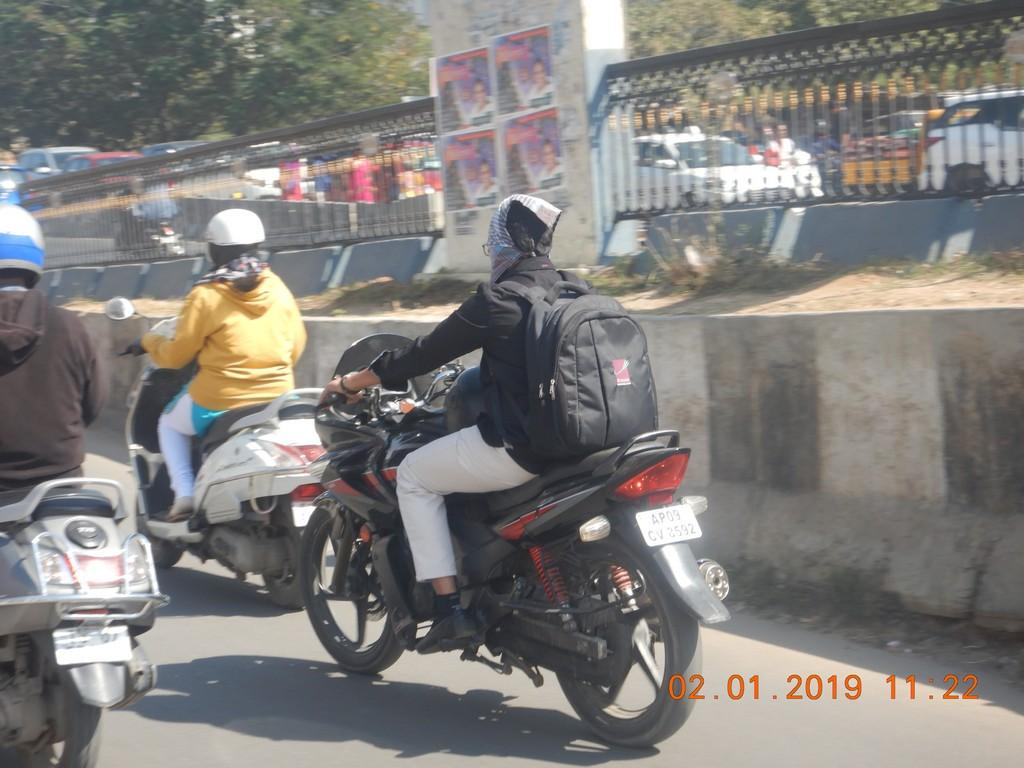plate: (642, 506, 700, 548)
